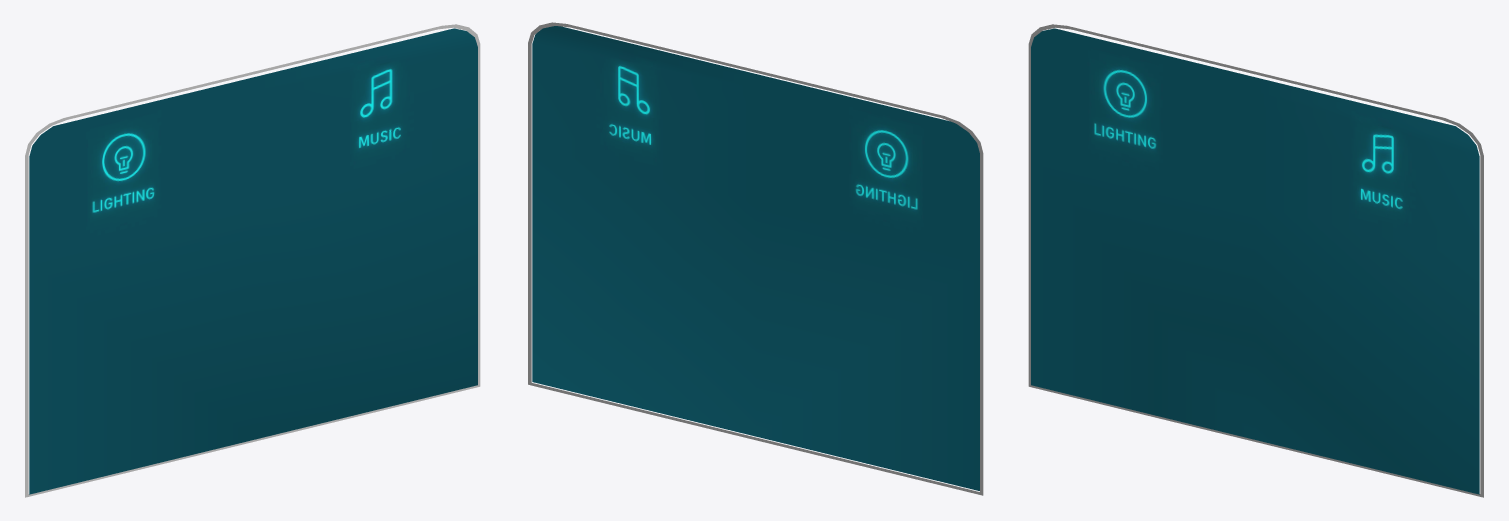
The model's file is BedHead_optimized.glb.
The picture shows the model from 3 angles, left to right: view 1: azimuth 30°, elevation 25°; view 2: azimuth 150°, elevation 25°; view 3: azimuth 330°, elevation 25°; orthographic projection.
Visible parts, largest first — view 1: Bed_Head_Light; view 2: Bed_Head_Light; view 3: Bed_Head_Light.
Part boxes in pixels (bbox=[...]): Bed_Head_Light: bbox=[25, 24, 480, 497]; Bed_Head_Light: bbox=[528, 22, 983, 495]; Bed_Head_Light: bbox=[1028, 24, 1483, 497].
Size of the model in its own units: 2.18 by 1.7 by 0.0347.
3 materials, 1 textured.
